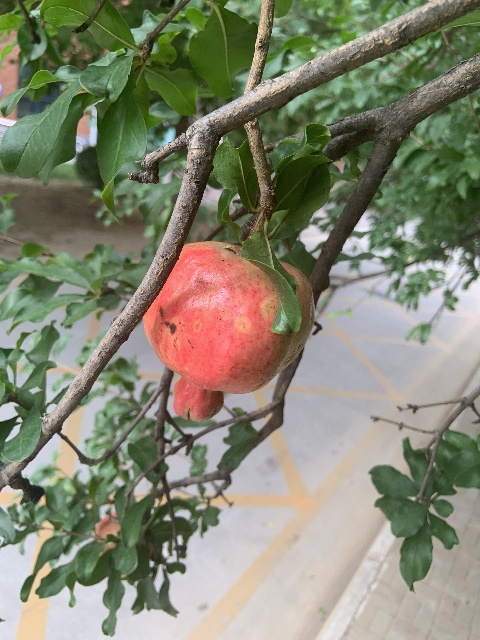ripe: (143, 242, 310, 423)
